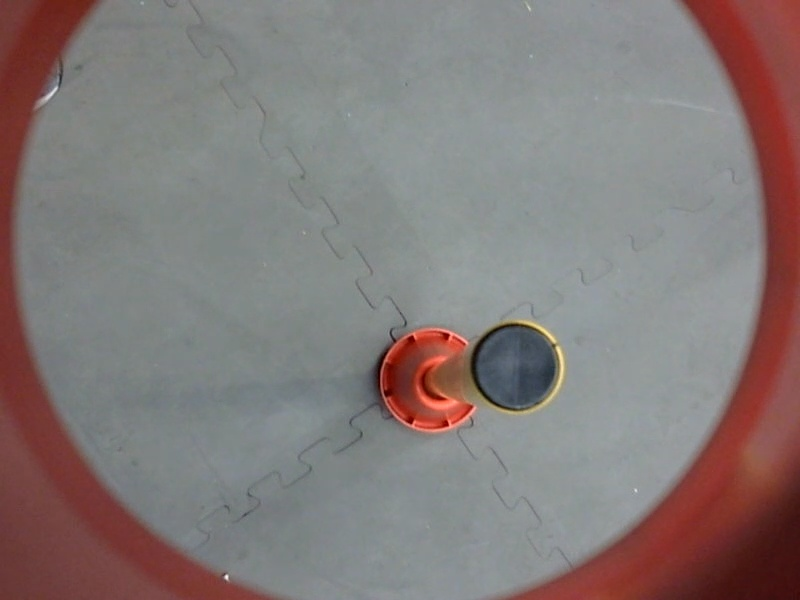tip: (462, 312, 571, 426)
